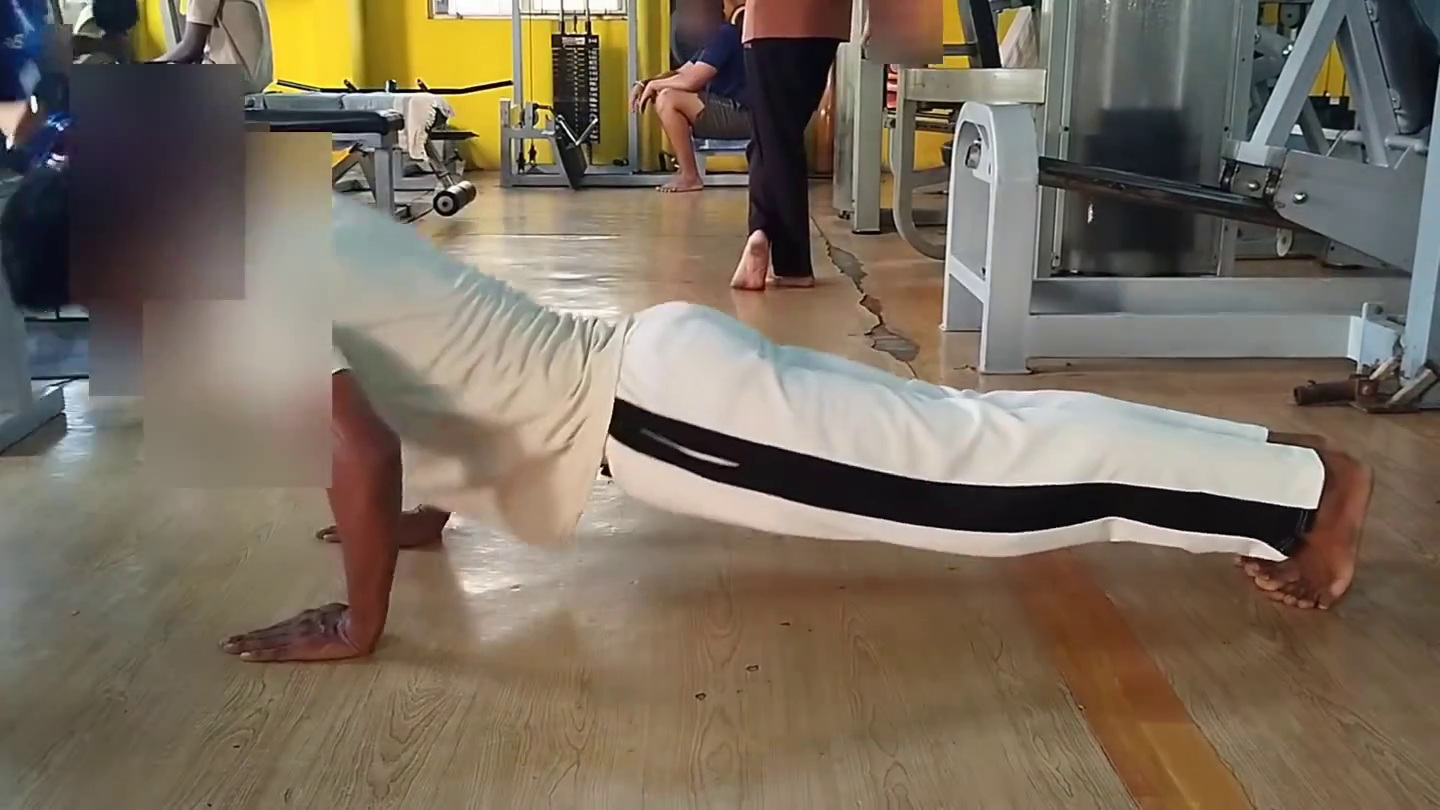push_up: (162, 199, 1440, 737)
